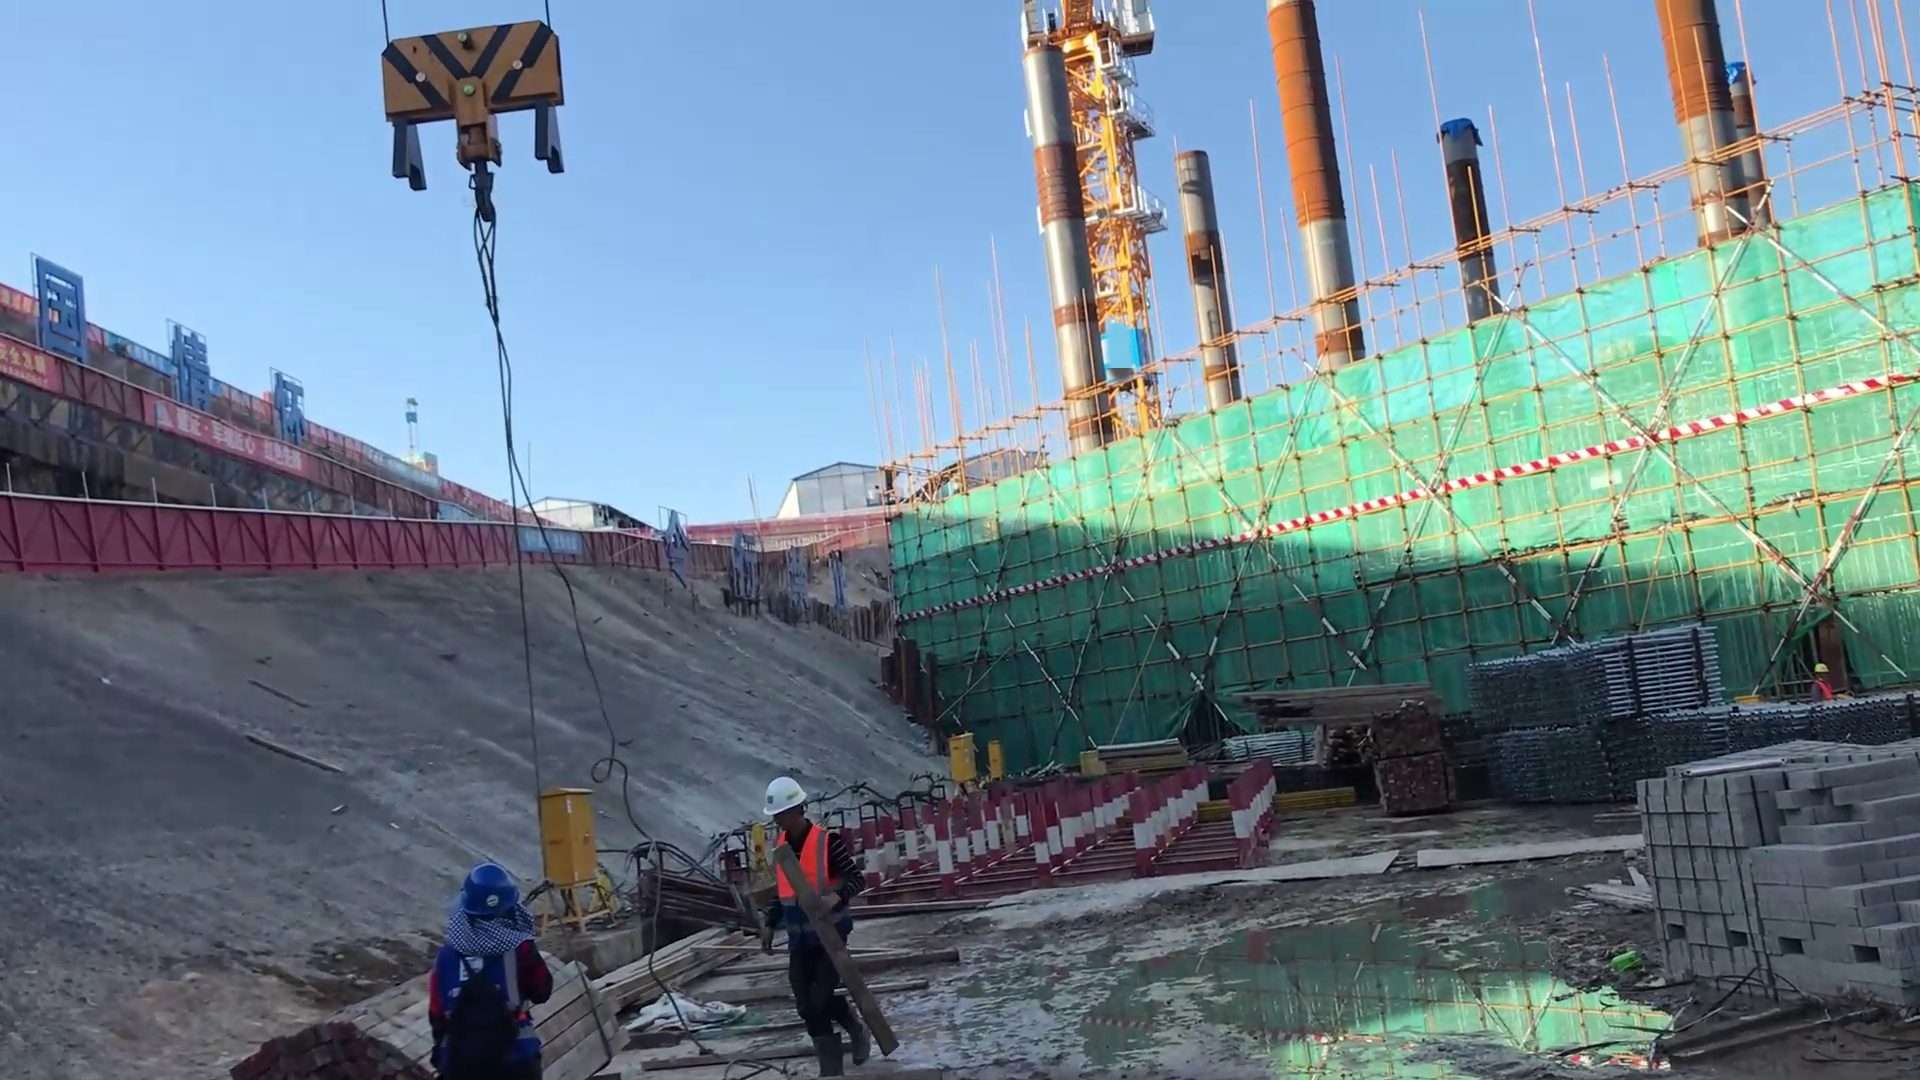board: (1625, 734, 1920, 1011)
ebox: (533, 772, 604, 904), (941, 738, 981, 783), (985, 741, 1003, 782)
fence: (1, 493, 500, 582), (506, 523, 676, 571)
helmet: (456, 852, 524, 905), (758, 775, 807, 820)
hook: (388, 24, 574, 189)
person: (748, 781, 885, 1071), (419, 857, 552, 1080), (1804, 660, 1837, 706)
scaffold: (1467, 629, 1718, 731)
vest: (765, 827, 844, 920)
wood: (1240, 670, 1428, 726)
